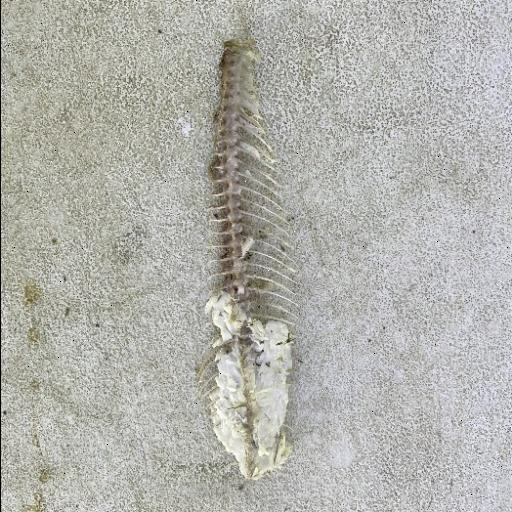Waste: (196, 36, 304, 480)
